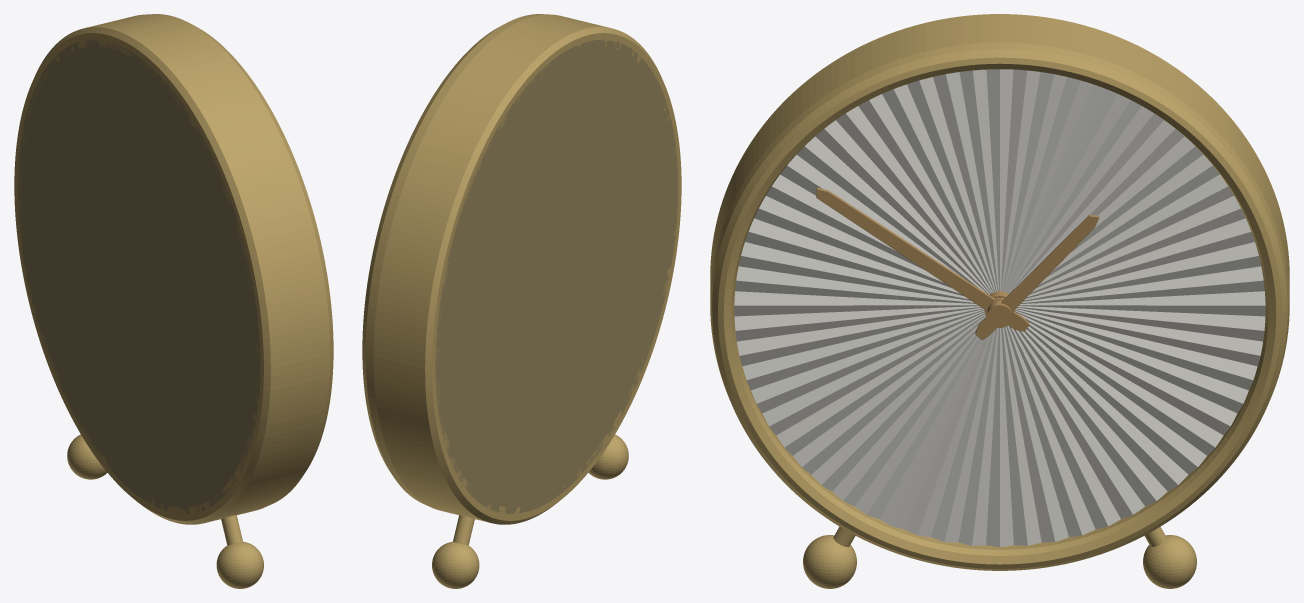
3 views of the same model, side by side, from view 1: azimuth 30°, elevation 25°; view 2: azimuth 150°, elevation 25°; view 3: azimuth 270°, elevation 25° (orthographic). The views are drawn at different scales.
Parts seen in each view (by area): view 1: visual_part_000_0_2, visual_part_000_0_3; view 2: visual_part_000_0_2, visual_part_000_0_3; view 3: visual_part_000_0_1, visual_part_000_0_3, visual_part_001_0_0, visual_part_002_0_0.
Boxes of the visible parts, x1,y1,x2,y2 form: visual_part_000_0_2: [17, 39, 260, 514]; visual_part_000_0_3: [14, 14, 333, 588]; visual_part_000_0_2: [435, 39, 678, 514]; visual_part_000_0_3: [362, 14, 681, 588]; visual_part_000_0_1: [734, 69, 1265, 547]; visual_part_000_0_3: [710, 14, 1289, 588]; visual_part_001_0_0: [816, 187, 1029, 331]; visual_part_002_0_0: [975, 214, 1099, 340].
Size of the model in its own units: 0.052 by 0.32 by 0.3.
